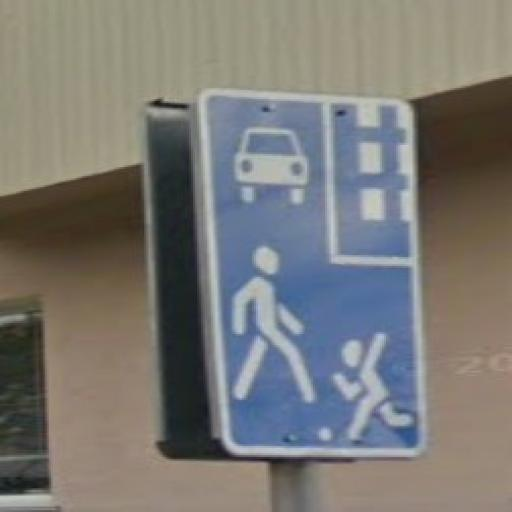traffic_sign: (198, 91, 434, 460)
